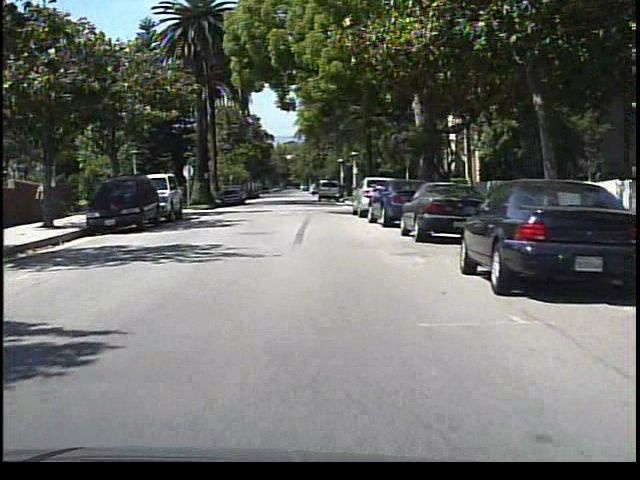person: (32, 176, 51, 225)
